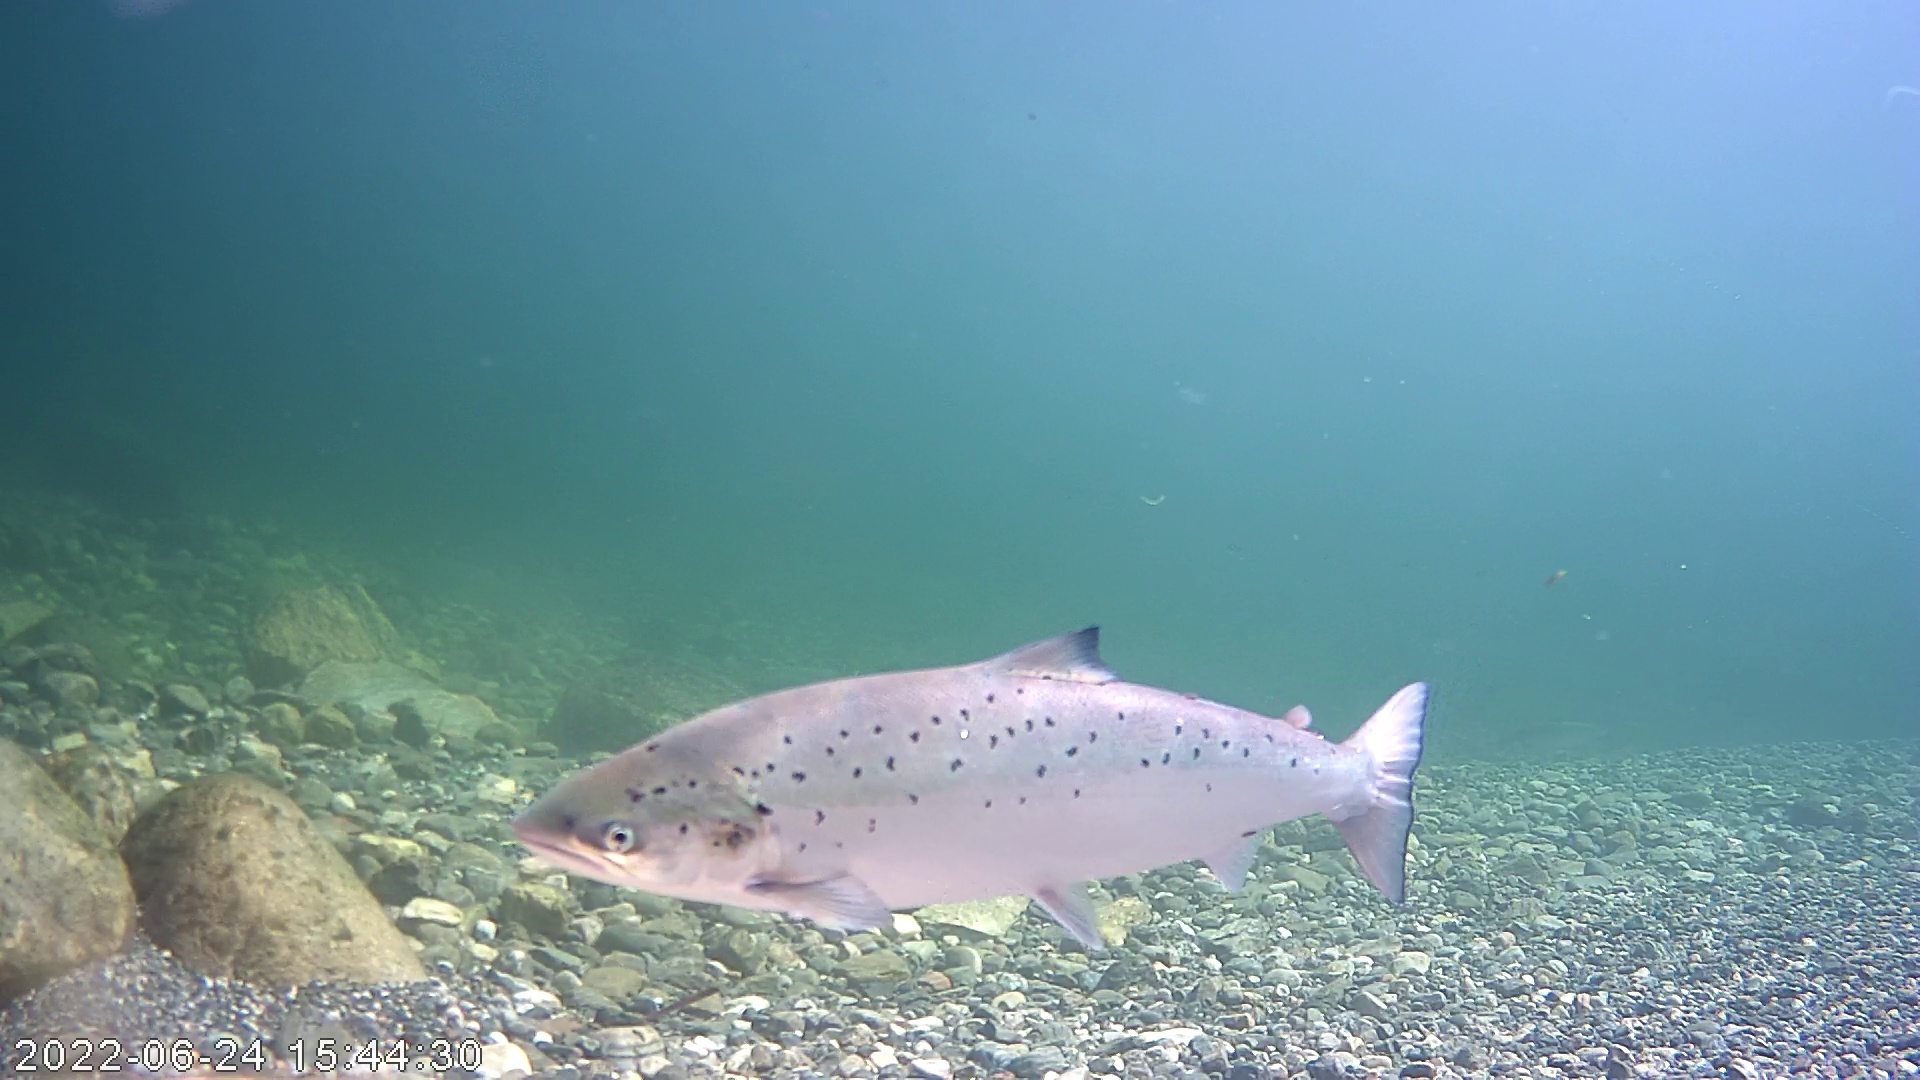salmon: (506, 624, 1432, 949)
